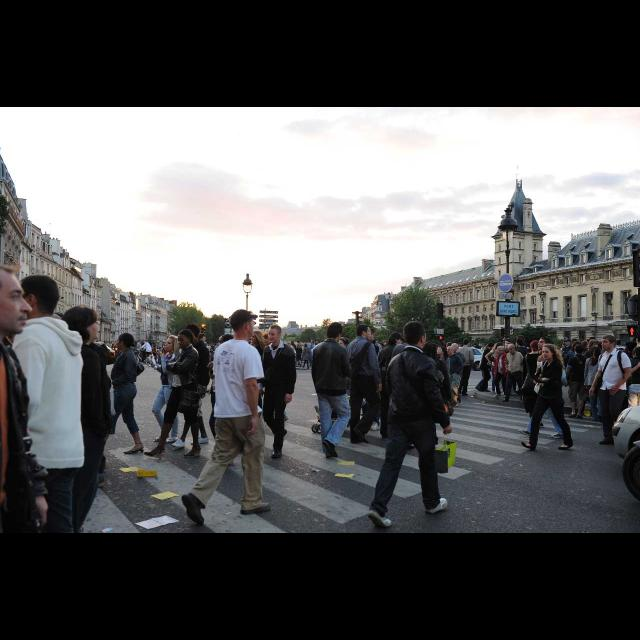head: (0, 264, 34, 336), (12, 275, 60, 321), (62, 305, 100, 341), (229, 308, 255, 338), (404, 321, 428, 349), (421, 342, 441, 364), (178, 329, 195, 351), (216, 334, 234, 352), (327, 323, 343, 343), (116, 334, 134, 351), (542, 344, 558, 361), (164, 336, 180, 352), (356, 324, 372, 340), (601, 335, 617, 351), (269, 326, 283, 344), (390, 332, 404, 348), (537, 337, 551, 351), (186, 325, 198, 341), (338, 338, 350, 352), (364, 328, 376, 342), (250, 331, 262, 343), (264, 334, 274, 346), (574, 345, 584, 355), (508, 344, 516, 356), (438, 346, 446, 356), (516, 338, 524, 348), (532, 341, 540, 351), (594, 348, 602, 357), (447, 346, 455, 354), (496, 343, 504, 351), (573, 342, 581, 350), (564, 338, 572, 346), (498, 346, 506, 354), (452, 343, 458, 353), (465, 339, 471, 347), (497, 342, 503, 350), (486, 344, 492, 350), (485, 344, 491, 350), (138, 338, 142, 342), (144, 340, 148, 344), (296, 344, 300, 348), (304, 344, 308, 348)
person: (179, 306, 273, 530), (365, 318, 459, 530), (141, 328, 203, 460), (89, 330, 147, 458), (308, 319, 358, 463), (205, 331, 257, 469), (519, 342, 575, 453), (254, 323, 298, 461), (517, 336, 571, 440), (170, 322, 212, 450), (407, 340, 455, 450), (587, 334, 633, 446), (343, 322, 383, 446), (329, 335, 377, 433), (147, 332, 189, 443), (376, 330, 416, 440), (353, 326, 387, 432), (258, 332, 290, 423), (242, 328, 270, 422), (522, 340, 548, 428), (564, 344, 592, 420), (583, 346, 611, 422), (429, 345, 453, 409), (441, 345, 465, 407), (502, 343, 526, 405), (564, 338, 588, 396), (454, 337, 476, 397), (448, 341, 468, 404), (484, 342, 506, 394), (513, 336, 531, 396), (491, 345, 511, 399), (475, 343, 493, 392), (478, 341, 494, 394), (493, 341, 507, 395), (561, 337, 575, 389), (136, 338, 154, 366), (300, 342, 312, 370), (134, 337, 144, 363), (295, 344, 305, 368)
